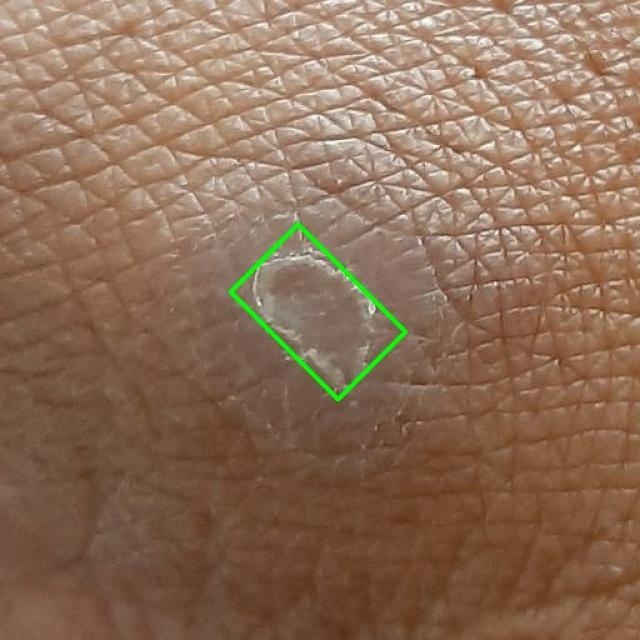Eczema: (231, 224, 406, 399)
